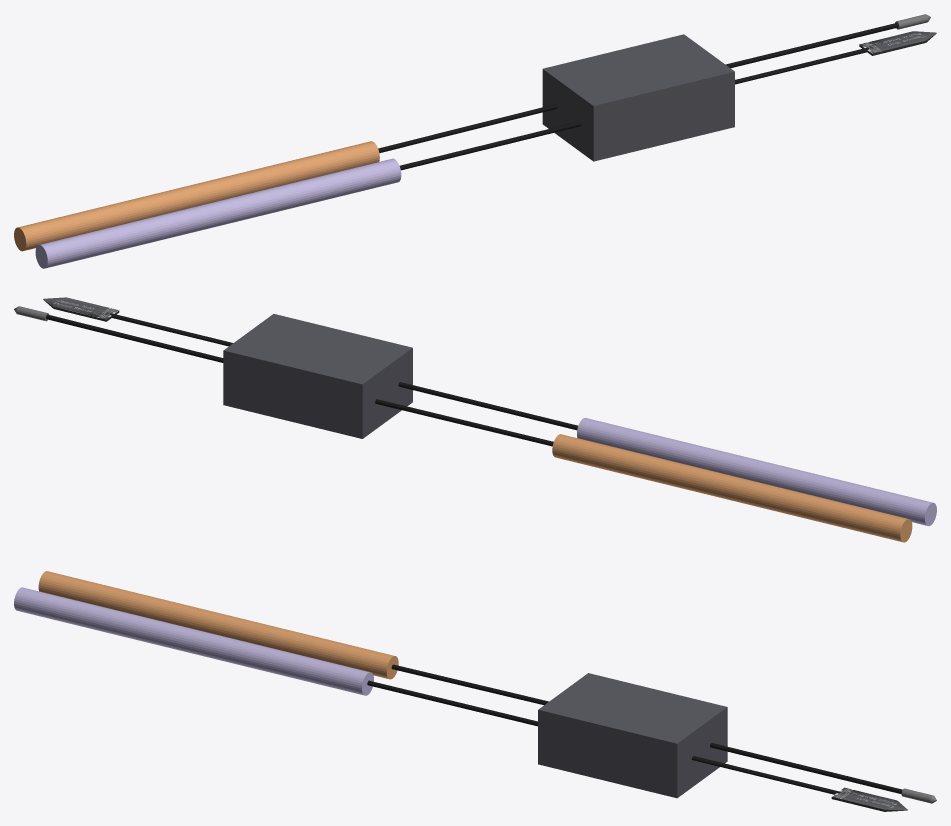
The picture shows the model from 3 angles, top to bottom: view 1: azimuth 30°, elevation 25°; view 2: azimuth 150°, elevation 25°; view 3: azimuth 330°, elevation 25°; orthographic projection.
Visible parts, largest first — view 1: Enclosure_Box, Electrode_Copper.001, Electrode_Copper, Wire_to_Copper.002, Wire_to_Copper.003, Куб, Wire_to_Copper.001, Цилиндр.001; view 2: Enclosure_Box, Electrode_Copper, Electrode_Copper.001, Wire_to_Copper.002, Wire_to_Copper.003, Wire_to_Copper.001, Куб, Цилиндр.001; view 3: Enclosure_Box, Electrode_Copper.001, Electrode_Copper, Wire_to_Copper.001, Куб, Wire_to_Copper.002, Wire_to_Copper.003, Цилиндр.001.
Boxes of the visible parts, left/top/right/bottom form: Enclosure_Box: left=542, top=34, right=734, bottom=161; Electrode_Copper.001: left=35, top=158, right=401, bottom=268; Electrode_Copper: left=14, top=141, right=379, bottom=251; Wire_to_Copper.002: left=399, top=121, right=581, bottom=170; Wire_to_Copper.003: left=378, top=104, right=557, bottom=153; Куб: left=859, top=31, right=936, bottom=55; Wire_to_Copper.001: left=725, top=23, right=898, bottom=68; Цилиндр.001: left=735, top=47, right=869, bottom=84; Enclosure_Box: left=223, top=314, right=412, bottom=438; Electrode_Copper: left=552, top=434, right=912, bottom=542; Electrode_Copper.001: left=577, top=418, right=936, bottom=526; Wire_to_Copper.002: left=398, top=382, right=577, bottom=430; Wire_to_Copper.003: left=375, top=399, right=553, bottom=446; Wire_to_Copper.001: left=46, top=314, right=223, bottom=362; Куб: left=43, top=297, right=119, bottom=321; Цилиндр.001: left=109, top=313, right=232, bottom=346; Enclosure_Box: left=538, top=673, right=727, bottom=798; Electrode_Copper.001: left=14, top=587, right=373, bottom=695; Electrode_Copper: left=38, top=571, right=398, bottom=679; Wire_to_Copper.001: left=710, top=743, right=902, bottom=794; Куб: left=831, top=787, right=907, bottom=811; Wire_to_Copper.002: left=367, top=680, right=537, bottom=726; Wire_to_Copper.003: left=391, top=664, right=548, bottom=704; Цилиндр.001: left=692, top=756, right=840, bottom=794.
Bounding box in the file's own units: 25.74 × 1.5 × 2.5.
9 materials, 1 textured.
